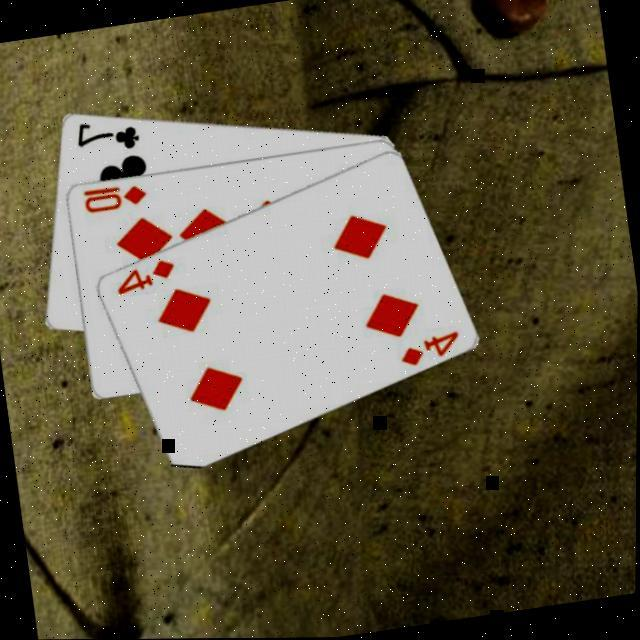10D: (77, 179, 148, 216)
4D: (108, 255, 178, 300), (393, 328, 463, 373)
7C: (68, 113, 142, 160)
